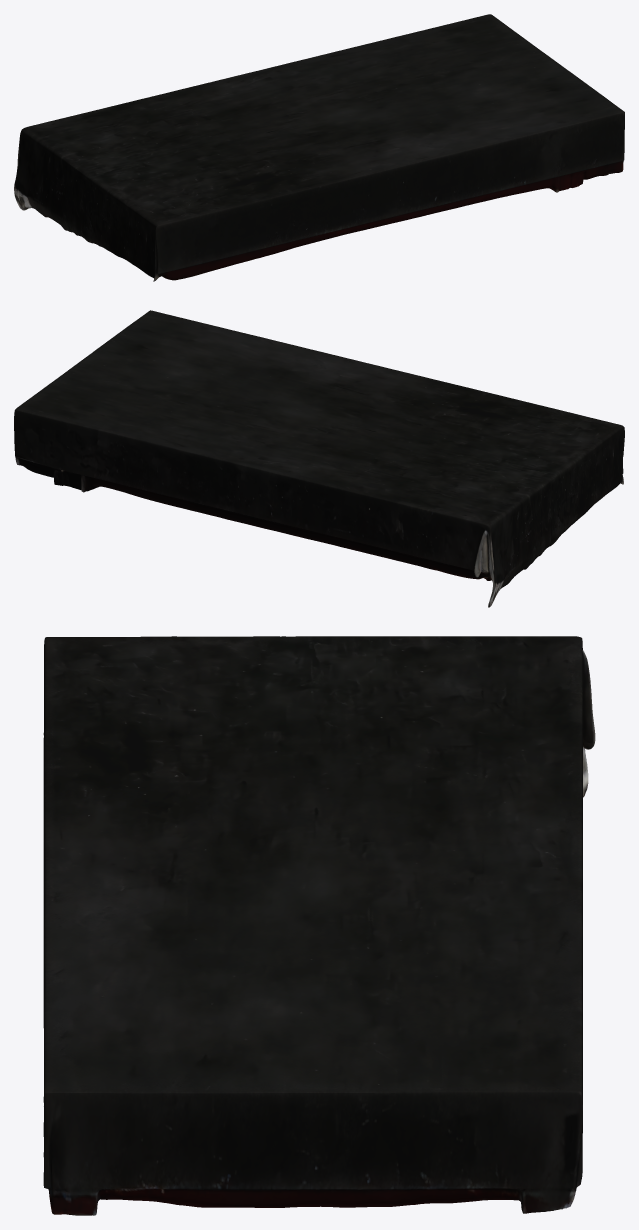
3 renders of one model, top to bottom at view 1: azimuth 30°, elevation 25°; view 2: azimuth 150°, elevation 25°; view 3: azimuth 270°, elevation 25°, orthographic. The views are drawn at different scales.
Visible parts, largest first — view 1: model; view 2: model; view 3: model.
Boxes of the visible parts, x1,y1,x2,y2 form: model: (14, 14, 624, 281); model: (14, 310, 624, 607); model: (43, 636, 595, 1215).
Bounding box in the file's own units: 2.44 × 0.4 × 1.22.
1 material, 1 textured.
